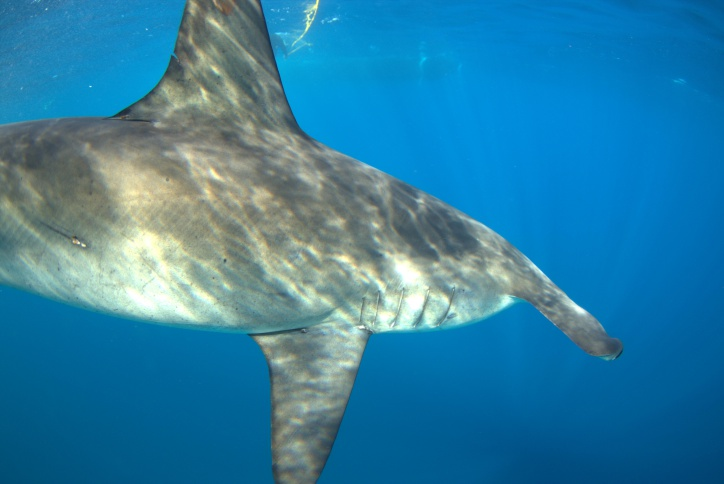Hammer: (1, 9, 639, 483)
